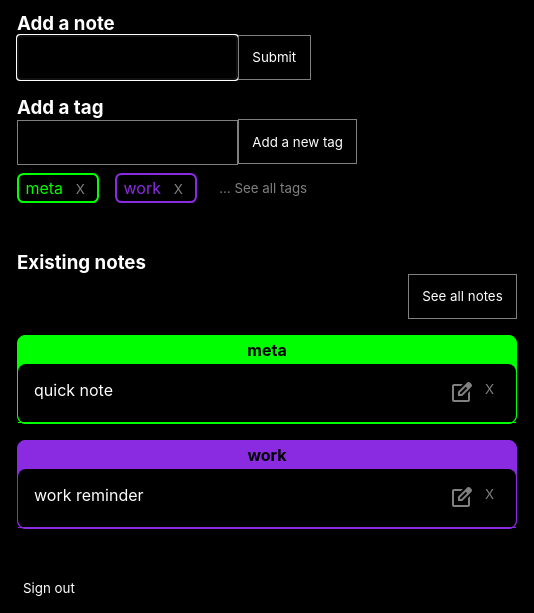
Test case: App › unhappy notes :( › shows error when deleting a note
The image size is (534, 613).
Expected: the text "quick note" is shown, 34,380 -> 113,406
Click the button with test id "note-1-delete": [489, 389] box 479,380 -> 500,398
Wait 3950 ms
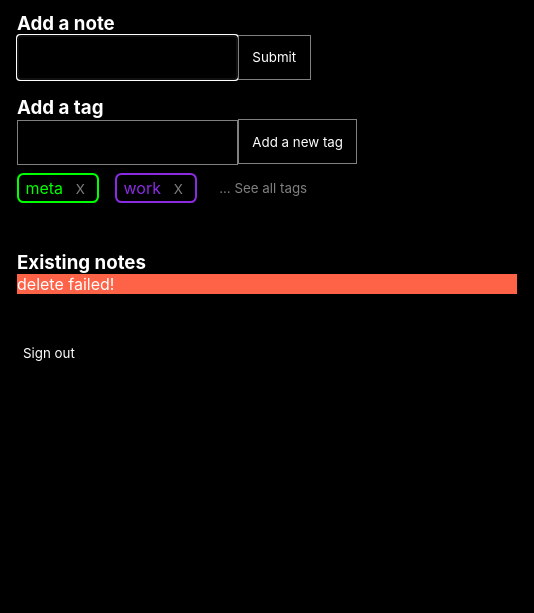
Expected: the text "delete failed!" is shown, 17,274 -> 517,294
